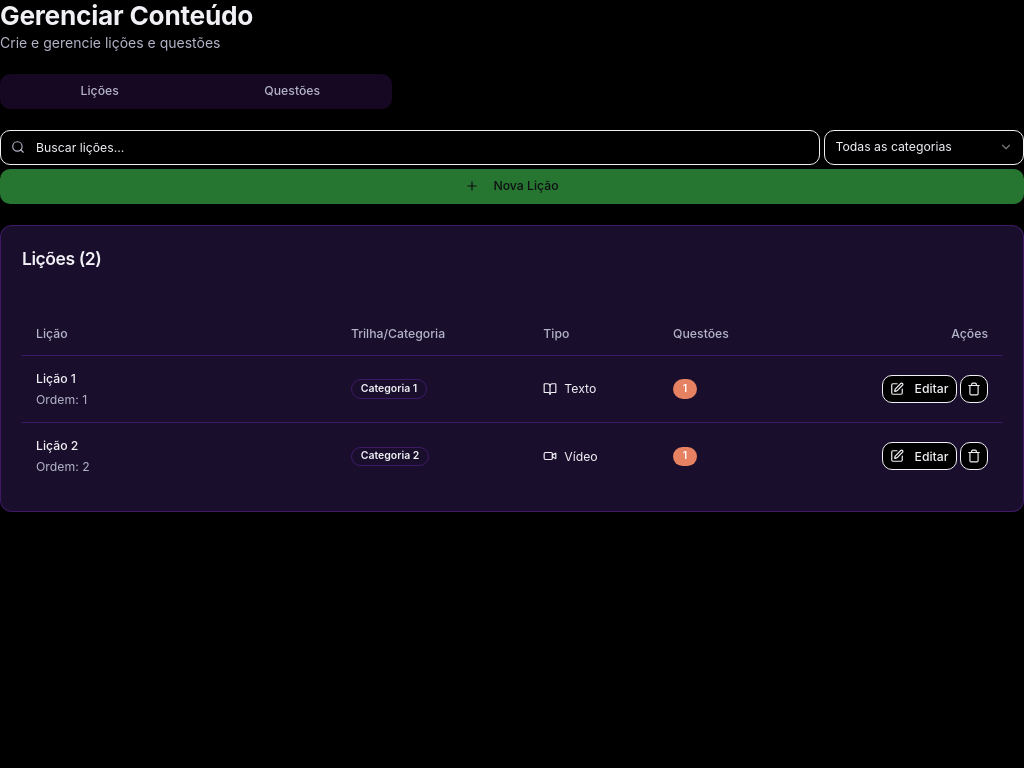
Test: AdminContent Component › opens create lesson dialog
Click the button "Nova Lição".
click(512, 186)  # box [0,168,1023,204]
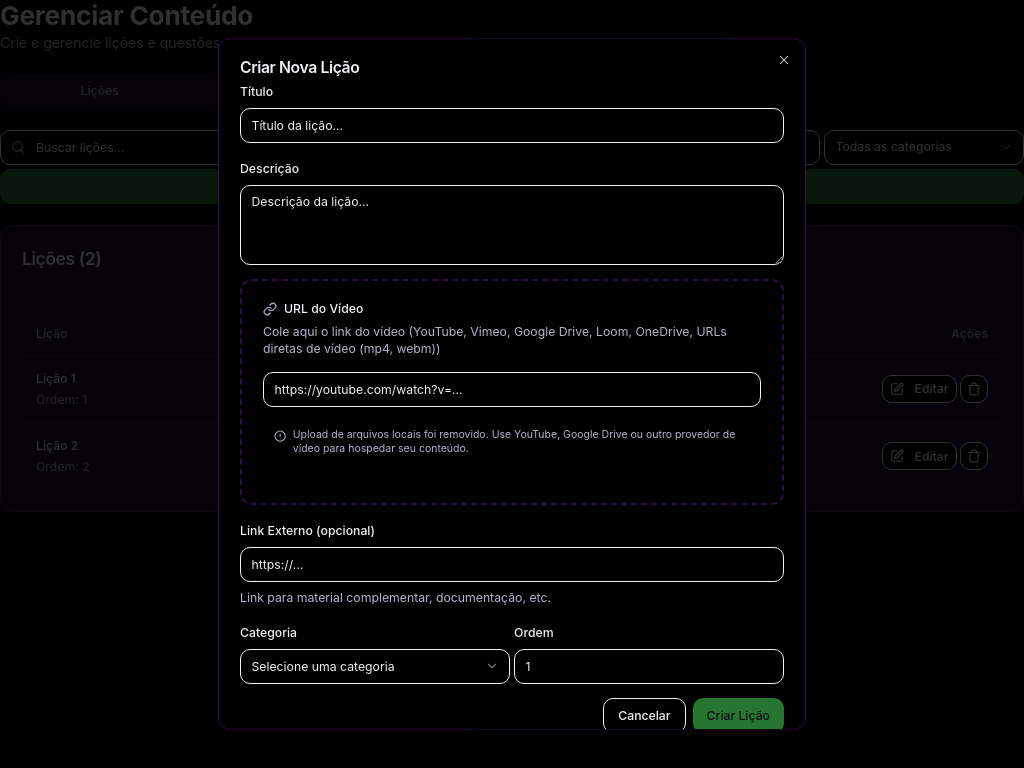
Expected: the heading "Criar Nova Lição" is shown, [240,58,359,77]
